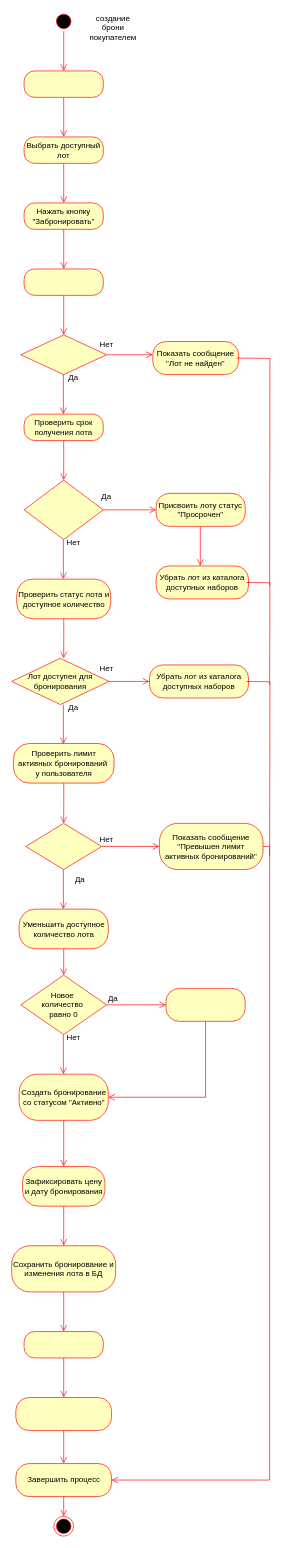
Image size: 288x1548. Some labels were removed from this diagram. The shapes that lost their labels are listed below. From the top down, each one's box as (x1, y1, x2, y2) in pixels, then its label:
(23, 70, 103, 97): Открыть каталог наборов
(23, 268, 103, 295): Найти выбранный лот
(20, 334, 107, 375): Лот найден
(23, 479, 103, 540): Срок получения истек
(25, 823, 102, 870): Лимит не превышен
(165, 988, 245, 1021): Присвоить лоту статус "Распродан"
(23, 1331, 103, 1358): Обновить каталог наборов
(15, 1397, 112, 1431): Показать сообщение "Бронирование создано"
